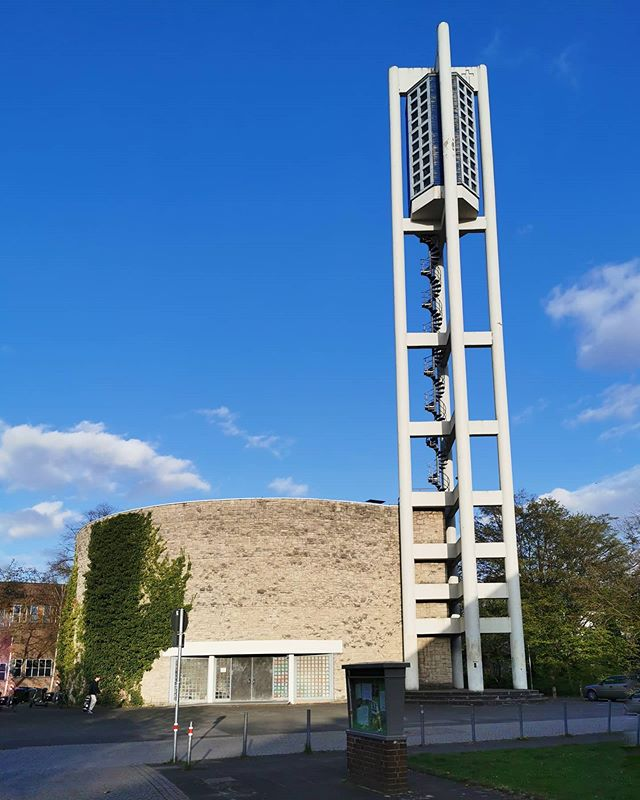building: (394, 55, 520, 702), (67, 500, 438, 719)
sky: (3, 1, 637, 502)
vegetation: (518, 513, 640, 699)
